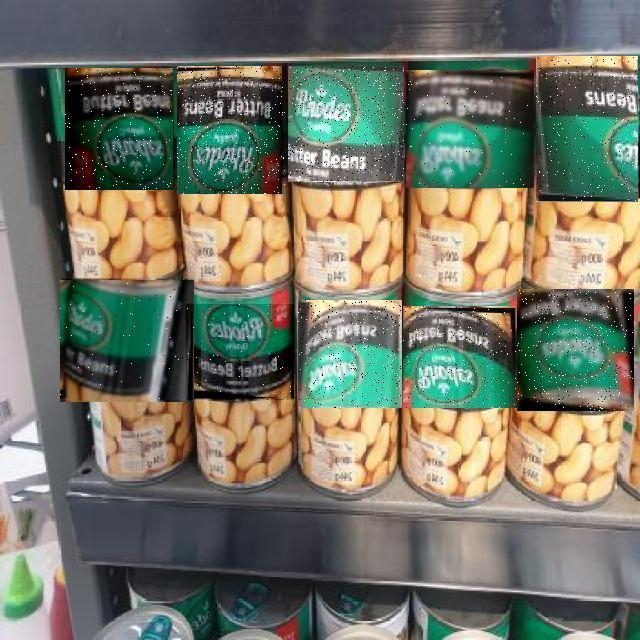Beans: (60, 280, 194, 402), (406, 70, 534, 188), (537, 56, 639, 202), (517, 289, 634, 411), (178, 66, 286, 194), (288, 66, 404, 182), (65, 68, 173, 190), (403, 307, 517, 409), (298, 301, 402, 409), (186, 305, 294, 401)
